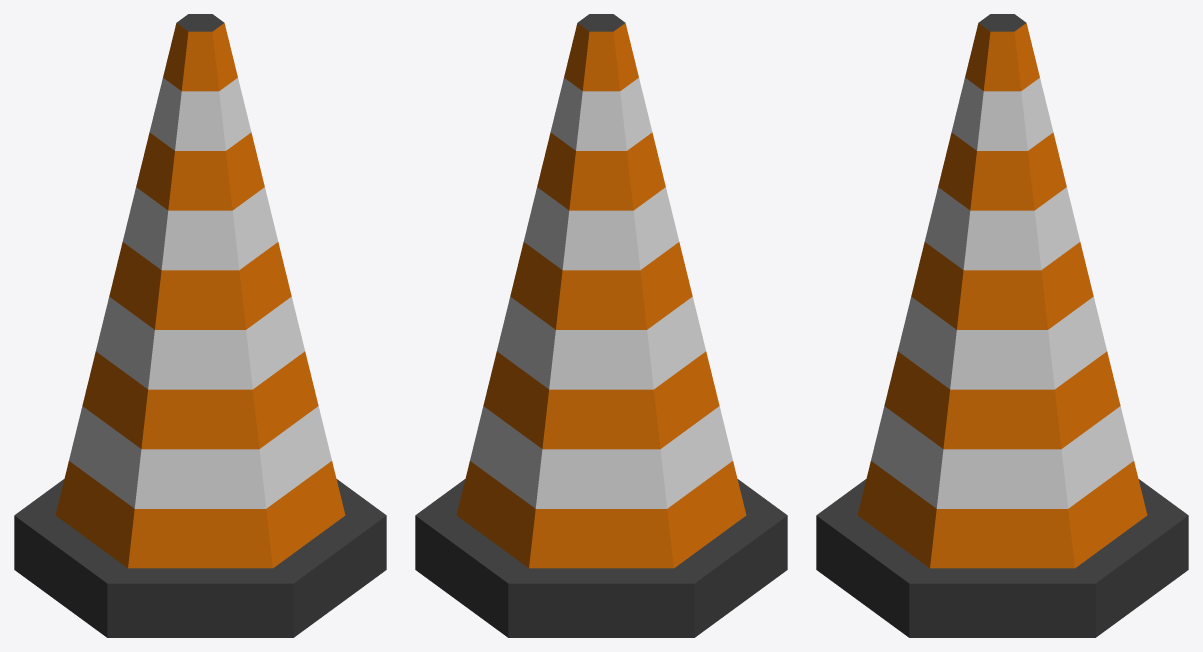
File: duba.fbx
3 renders of one model, left to right at view 1: azimuth 30°, elevation 25°; view 2: azimuth 150°, elevation 25°; view 3: azimuth 270°, elevation 25°, orthographic.
Visible parts, largest first — view 1: Circle; view 2: Circle; view 3: Circle.
Part boxes in pixels (left/top/right/bottom): Circle: left=14, top=14, right=386, bottom=637; Circle: left=415, top=14, right=787, bottom=637; Circle: left=816, top=14, right=1188, bottom=637.
Size of the model in its own units: 173 by 324 by 200.
